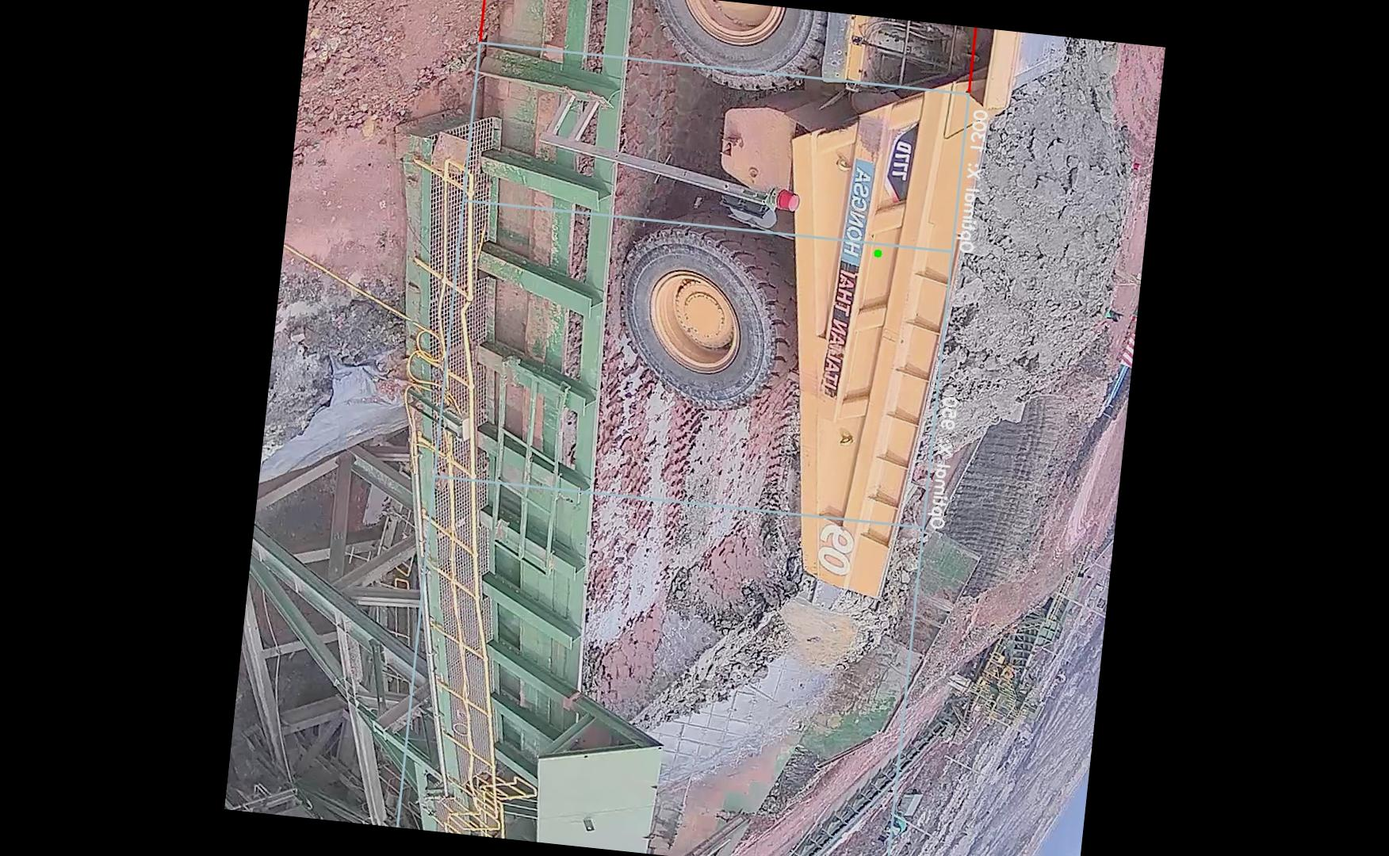company: (811, 149, 885, 410)
full_load: (935, 71, 1147, 432)
mining_truck: (596, 0, 1161, 635)
tail_number: (808, 520, 861, 581)
truck_size: (882, 119, 919, 203)
